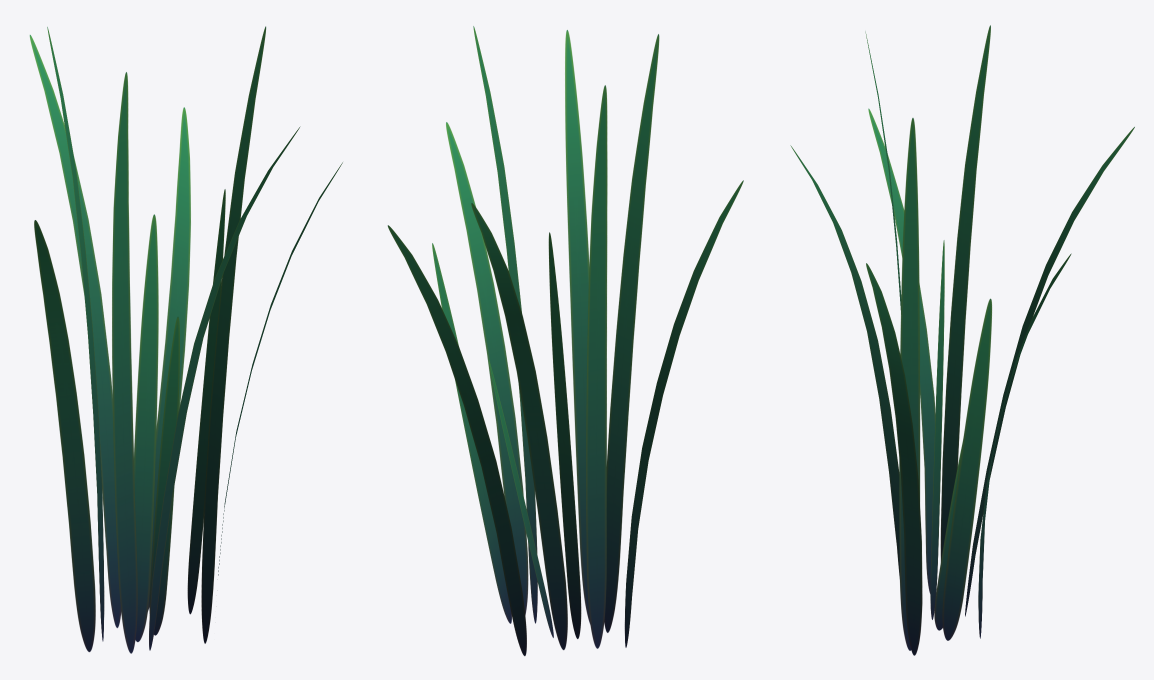
The picture shows the model from 3 angles, left to right: view 1: azimuth 30°, elevation 25°; view 2: azimuth 150°, elevation 25°; view 3: azimuth 270°, elevation 25°; orthographic projection. The views are drawn at different scales.
Parts seen in each view (by area): view 1: Grass:Grass_low6, Grass:Grass_low10, Grass:Grass_low12, Grass:Grass_low9, Grass:Grass_Master1, Grass:Grass_low13, Grass:Grass_low8, Grass:Grass_Master3, Grass:Grass_Master2, Grass:Grass_low11, Grass:Grass_low7; view 2: Grass:Grass_low11, Grass:Grass_low6, Grass:Grass_low12, Grass:Grass_low8, Grass:Grass_low7, Grass:Grass_low13, Grass:Grass_Master1, Grass:Grass_low10, Grass:Grass_low9, Grass:Grass_Master3, Grass:Grass_Master2; view 3: Grass:Grass_low11, Grass:Grass_Master3, Grass:Grass_low7, Grass:Grass_low9, Grass:Grass_low10, Grass:Grass_low8, Grass:Grass_low12, Grass:Grass_Master1, Grass:Grass_low13, Grass:Grass_Master2, Grass:Grass_low6.
Part boxes in pixels (x1=…): Grass:Grass_low6: x1=112, y1=72, x2=137, y2=653; Grass:Grass_low10: x1=34, y1=220, x2=95, y2=652; Grass:Grass_low12: x1=29, y1=35, x2=121, y2=627; Grass:Grass_low9: x1=201, y1=26, x2=266, y2=643; Grass:Grass_Master1: x1=134, y1=214, x2=158, y2=641; Grass:Grass_low13: x1=148, y1=107, x2=190, y2=610; Grass:Grass_low8: x1=149, y1=126, x2=300, y2=650; Grass:Grass_Master3: x1=187, y1=189, x2=225, y2=614; Grass:Grass_Master2: x1=149, y1=316, x2=179, y2=635; Grass:Grass_low11: x1=47, y1=27, x2=104, y2=641; Grass:Grass_low7: x1=218, y1=162, x2=342, y2=575; Grass:Grass_low11: x1=586, y1=85, x2=607, y2=648; Grass:Grass_low6: x1=604, y1=34, x2=659, y2=632; Grass:Grass_low12: x1=471, y1=203, x2=567, y2=650; Grass:Grass_low8: x1=565, y1=30, x2=590, y2=624; Grass:Grass_low7: x1=446, y1=122, x2=528, y2=614; Grass:Grass_low13: x1=387, y1=225, x2=526, y2=655; Grass:Grass_Master1: x1=548, y1=232, x2=581, y2=638; Grass:Grass_low10: x1=624, y1=180, x2=743, y2=647; Grass:Grass_low9: x1=473, y1=26, x2=537, y2=623; Grass:Grass_Master3: x1=432, y1=243, x2=511, y2=623; Grass:Grass_Master2: x1=488, y1=359, x2=553, y2=637; Grass:Grass_low11: x1=940, y1=25, x2=990, y2=560; Grass:Grass_Master3: x1=942, y1=298, x2=991, y2=640; Grass:Grass_low7: x1=866, y1=263, x2=922, y2=655; Grass:Grass_low9: x1=899, y1=118, x2=920, y2=650; Grass:Grass_low10: x1=868, y1=108, x2=935, y2=593; Grass:Grass_low8: x1=790, y1=145, x2=899, y2=578; Grass:Grass_low12: x1=965, y1=127, x2=1134, y2=616; Grass:Grass_Master1: x1=930, y1=240, x2=944, y2=619; Grass:Grass_low13: x1=978, y1=253, x2=1071, y2=638; Grass:Grass_Master2: x1=934, y1=442, x2=962, y2=630; Grass:Grass_low6: x1=865, y1=31, x2=901, y2=309.
Size of the model in its own units: 7.41 by 13.71 by 7.52.
1 material, 1 textured.
